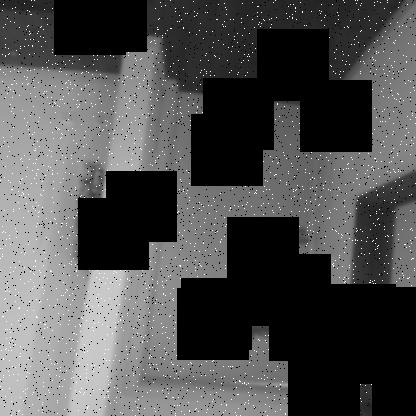Porte: (122, 78, 336, 406)
